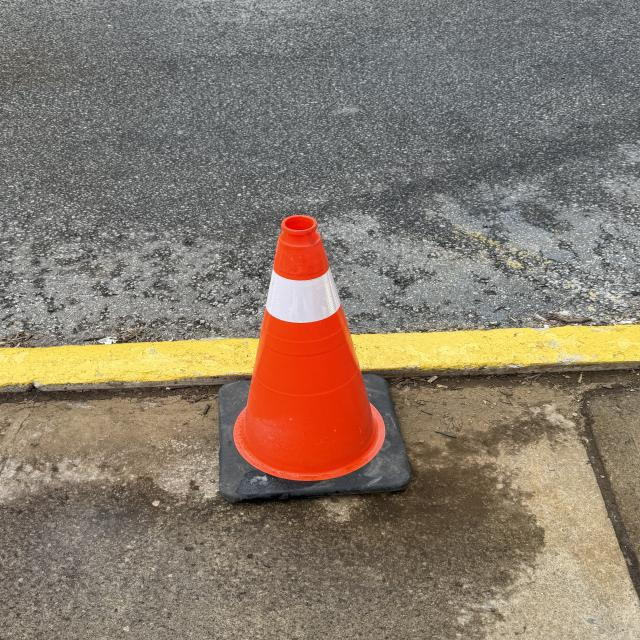Traffic Cone: (216, 213, 417, 502)
